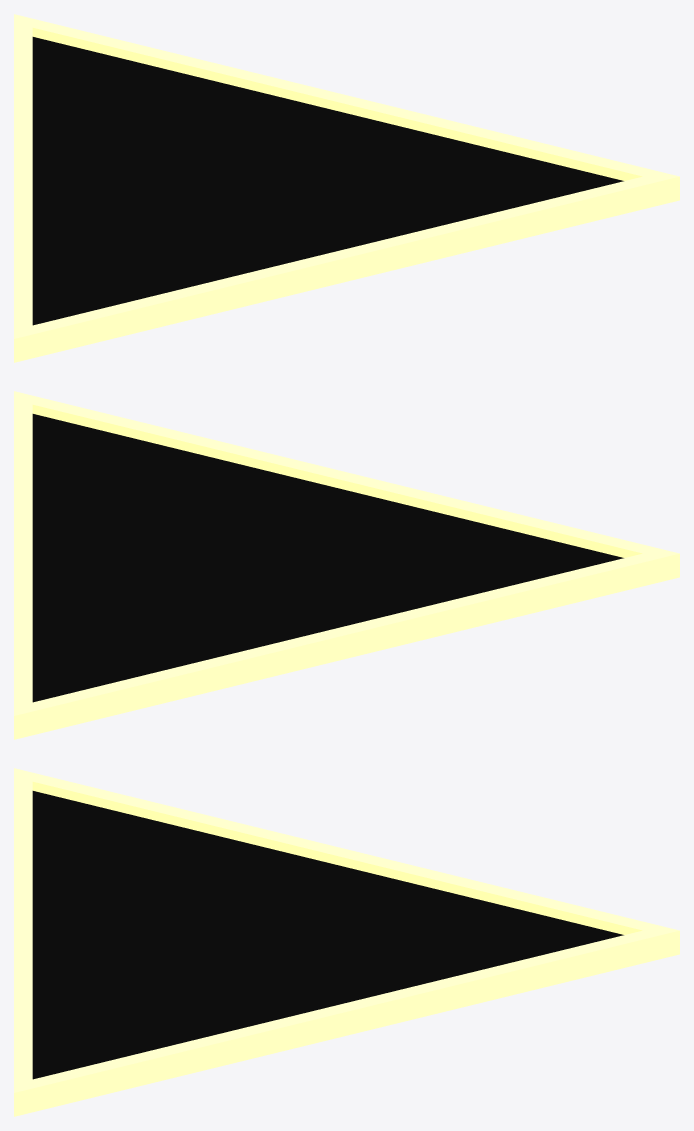
File: SFI0310021.fbx
3 renders of one model, top to bottom at view 1: azimuth 30°, elevation 25°; view 2: azimuth 150°, elevation 25°; view 3: azimuth 270°, elevation 25°, orthographic.
Visible parts, largest first — view 1: smSFI0310021; view 2: smSFI0310021; view 3: smSFI0310021.
Part boxes in pixels (x1=…): smSFI0310021: x1=14, y1=14, x2=679, y2=362; smSFI0310021: x1=14, y1=391, x2=679, y2=739; smSFI0310021: x1=14, y1=768, x2=679, y2=1116.
Bounding box in the file's own units: 173 × 5.93 × 150.
